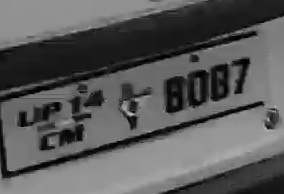0: (186, 66, 208, 112)
1: (66, 95, 82, 114)
4: (84, 89, 107, 113)
7: (230, 51, 252, 99)
8: (209, 60, 229, 108), (164, 75, 185, 116)
C: (36, 131, 56, 152)
M: (58, 123, 85, 147)
P: (41, 97, 68, 123)
U: (14, 103, 42, 129)
